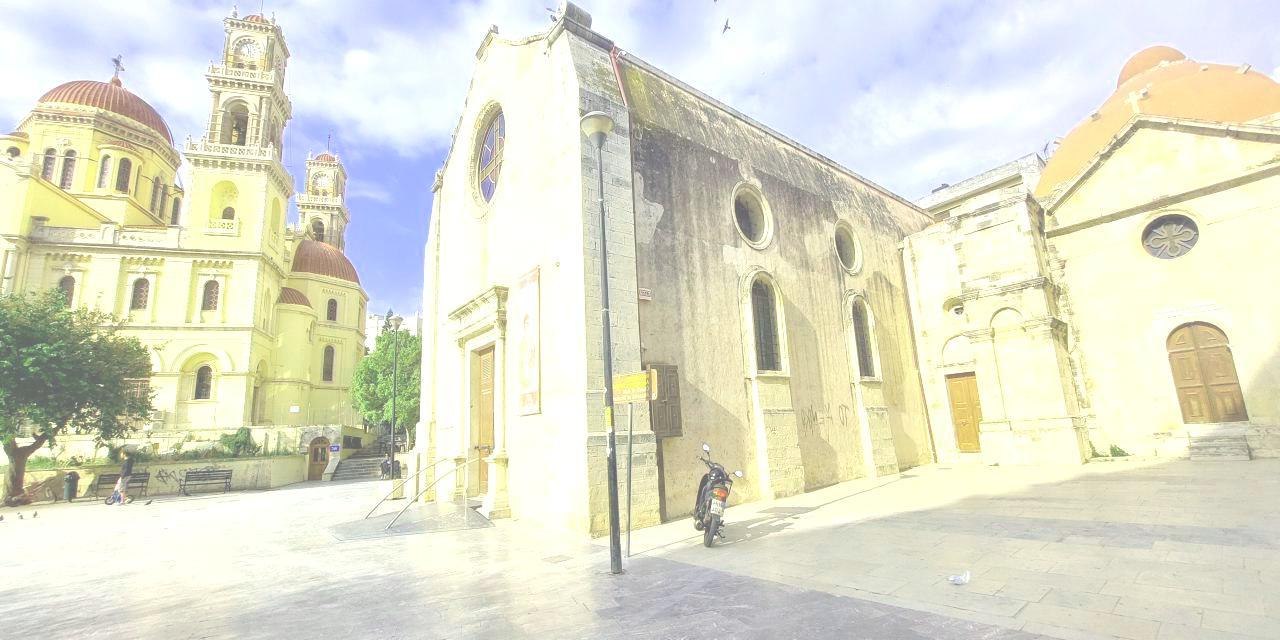Agia Aikaterini: (408, 9, 1280, 542)
